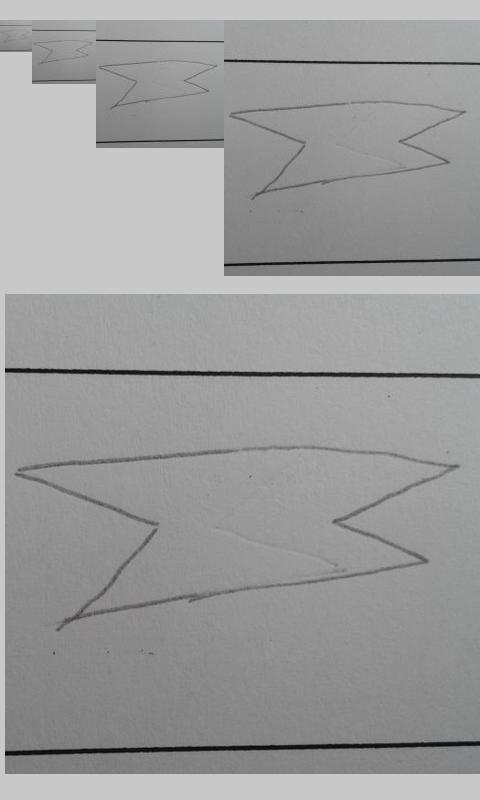edit_text: (12, 445, 459, 629), (229, 100, 466, 198), (99, 58, 217, 110), (33, 39, 93, 64), (1, 29, 30, 42)
